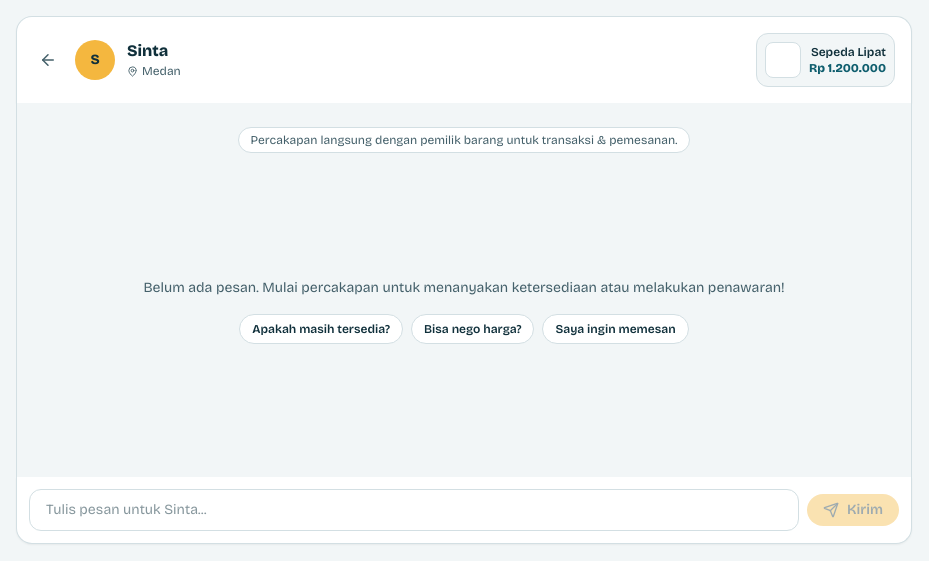
Test: ChatPage › tombol cepat 'Saya ingin memesan' mengirim pesan
The width and height of the screenshot is (929, 561).
Click the button "Saya ingin memesan": (616, 329) 542,314 -> 689,344
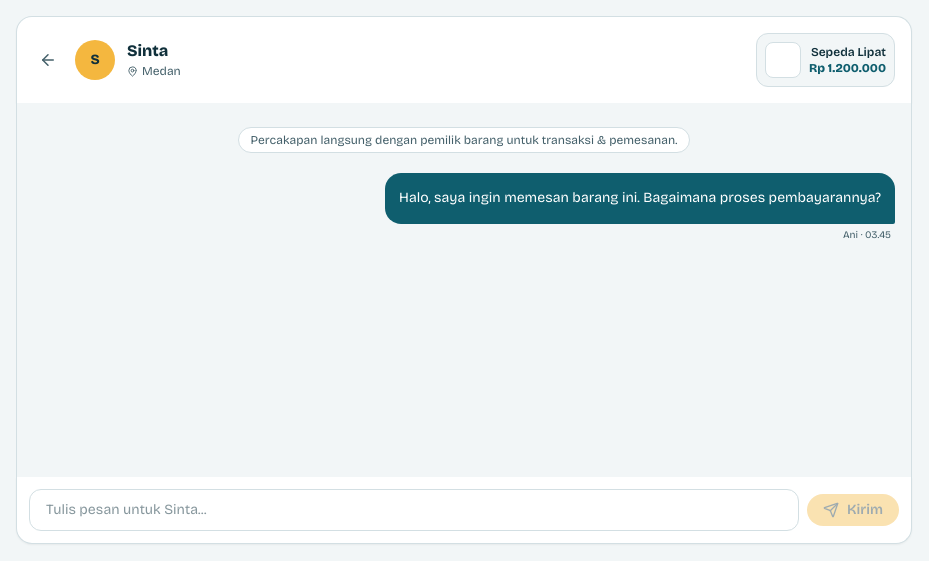
Now the text "Ani · 03.45" is shown, box 839,228 -> 895,243
